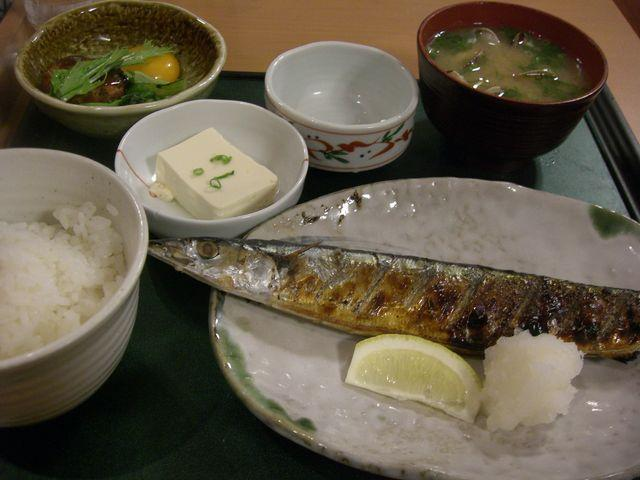rice: (0, 202, 127, 363)
